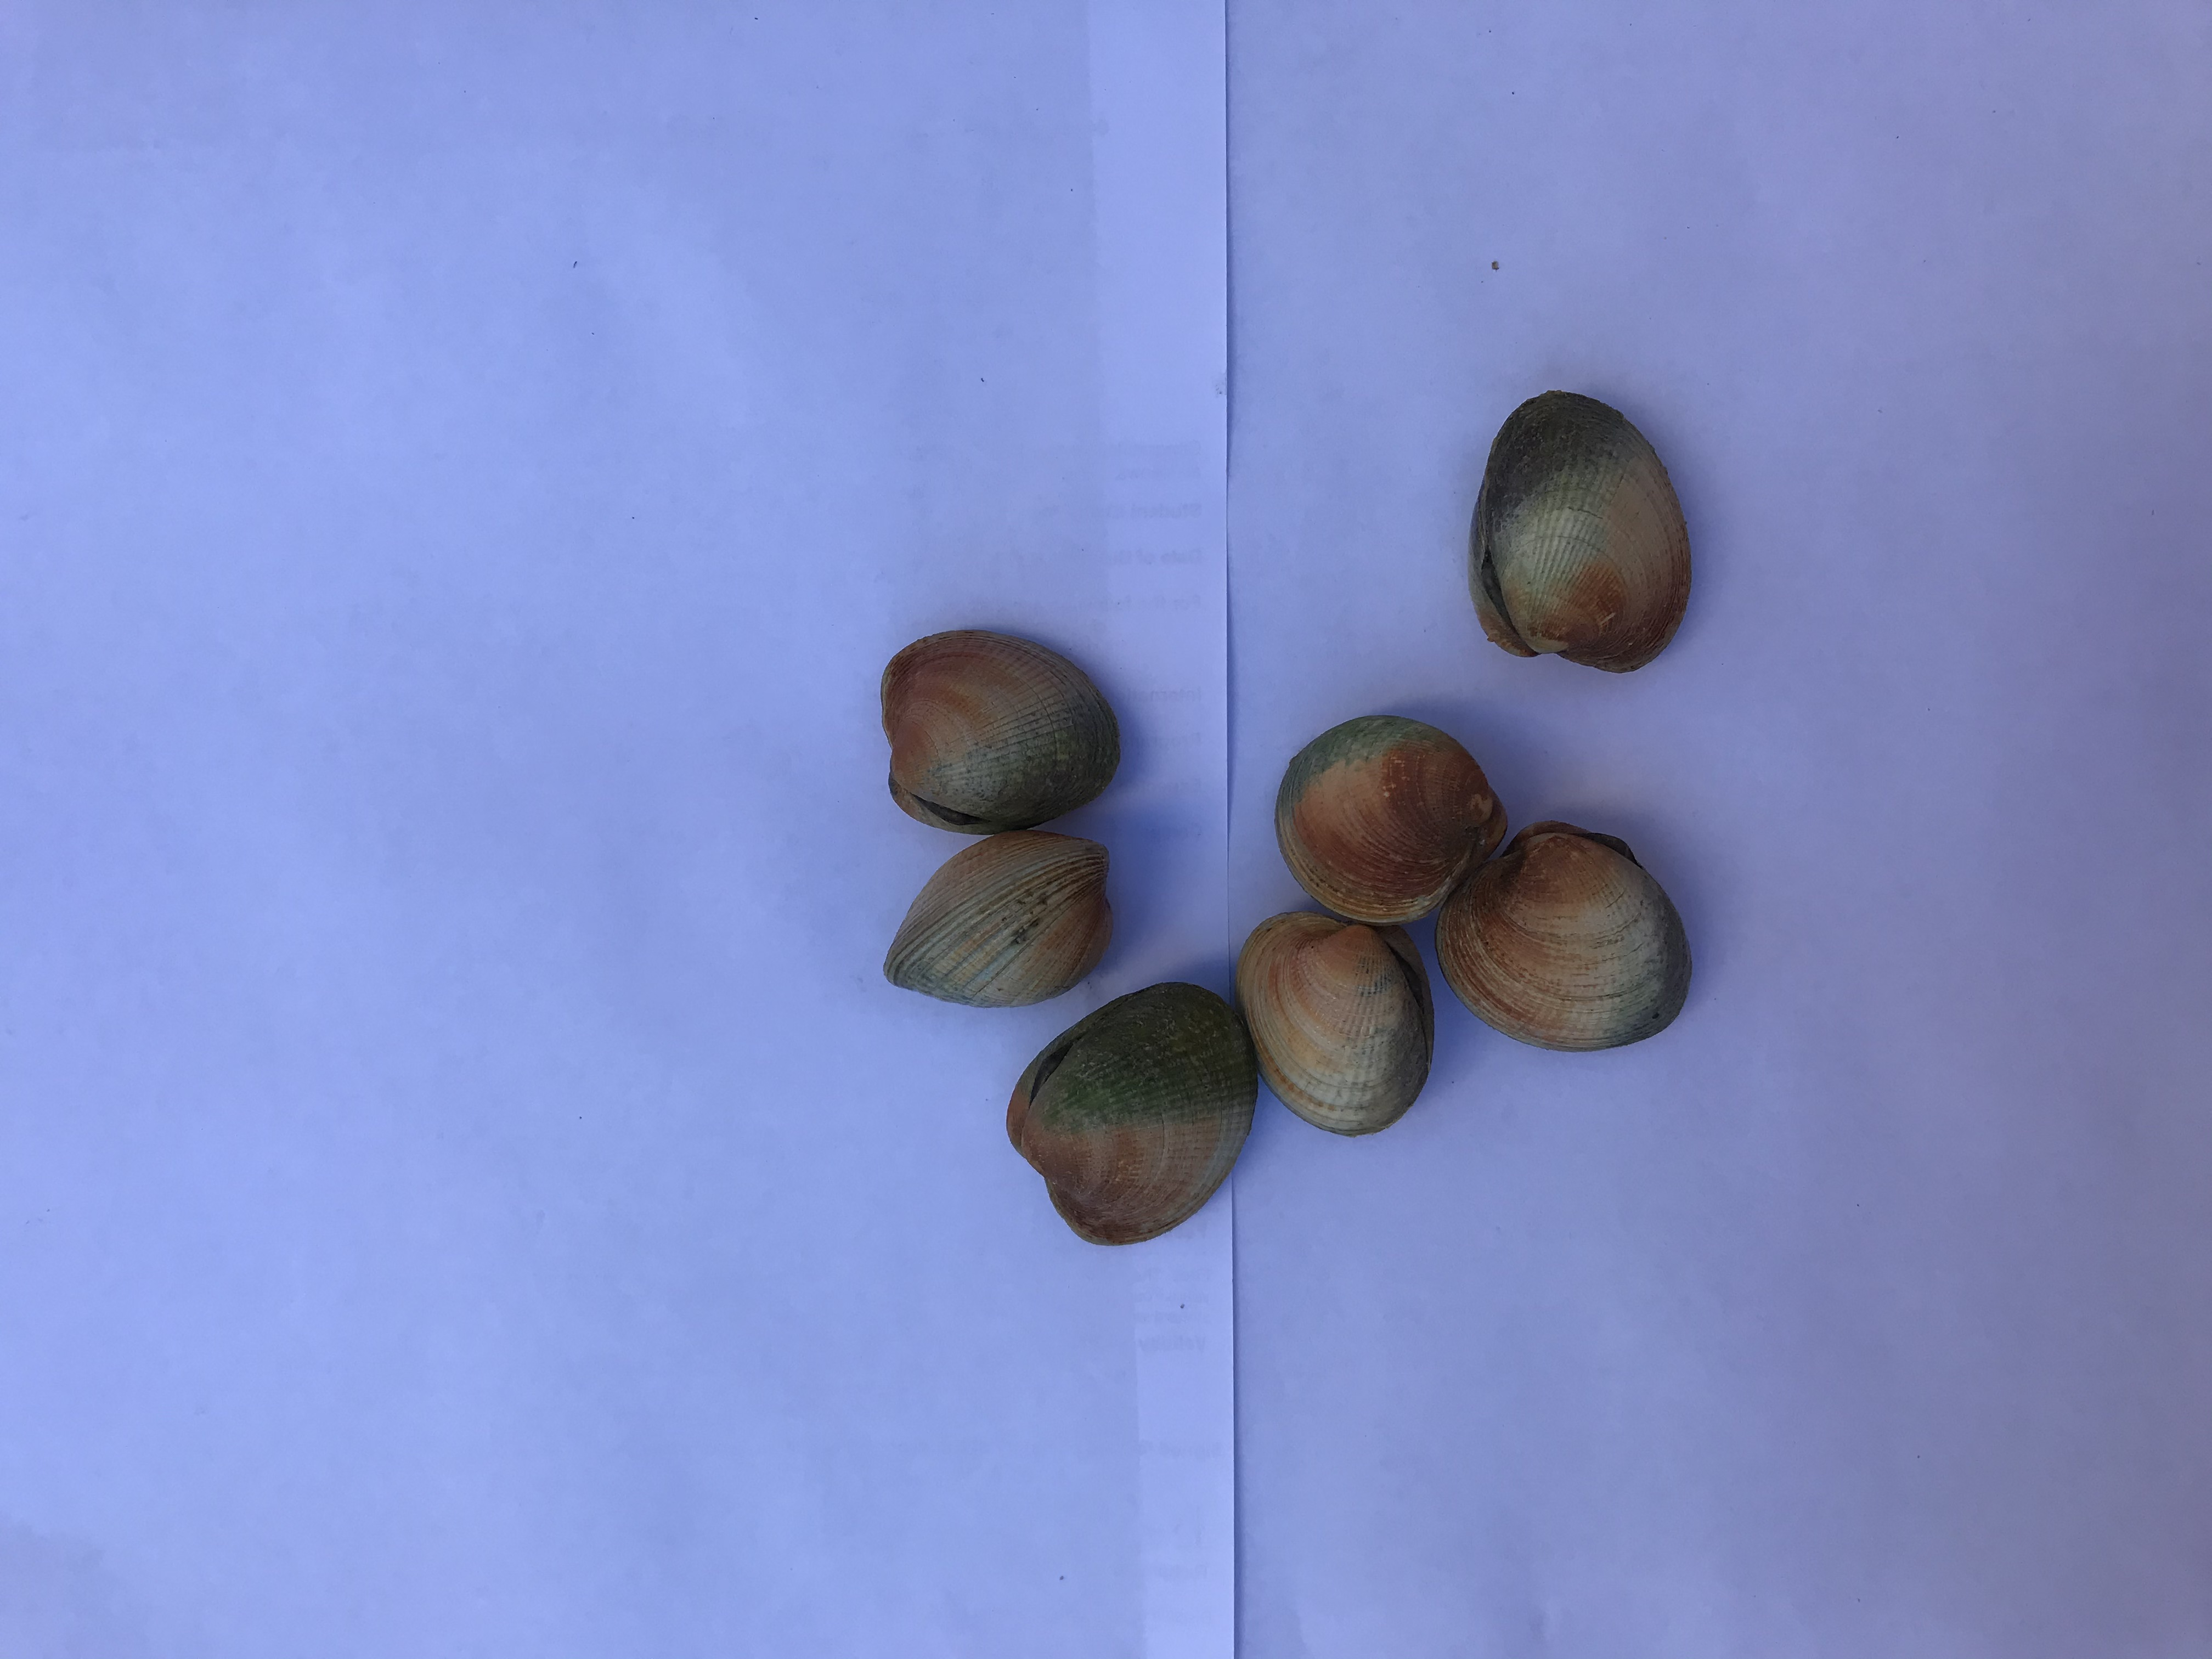cockle: (1003, 981, 1264, 1249), (1463, 387, 1698, 683), (1430, 821, 1698, 1053), (1268, 711, 1514, 934), (873, 626, 1127, 826), (1233, 908, 1435, 1141), (873, 830, 1122, 1012)
